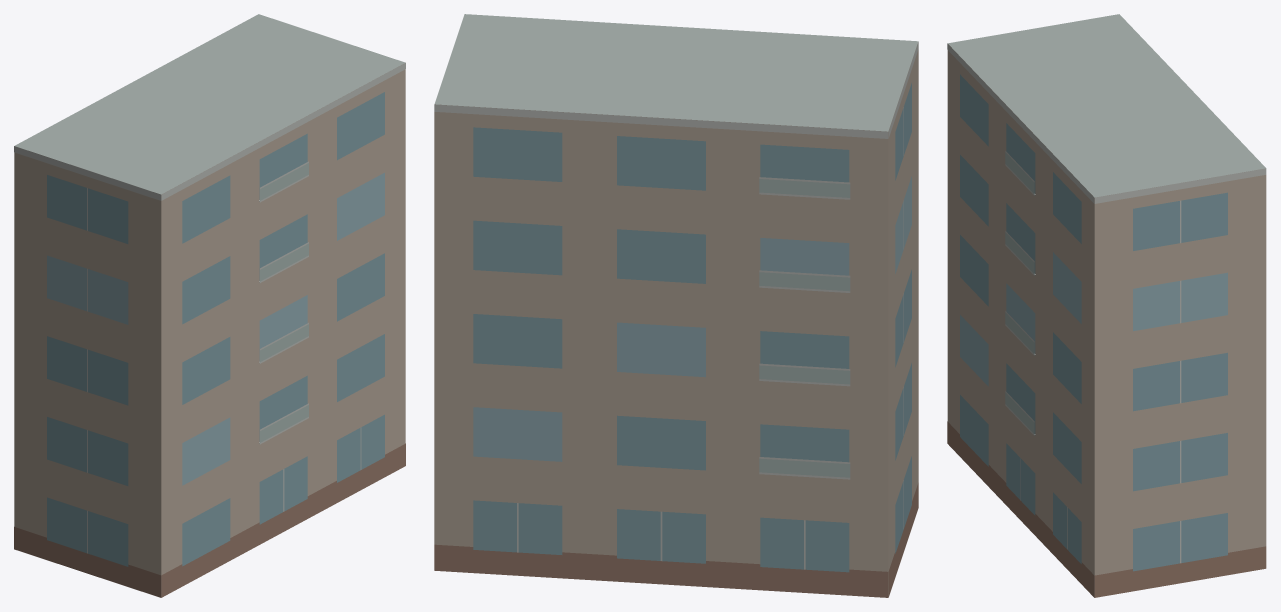
Rendered from residential-4b7114b2-32aa-4e94-8784-408849b689bf.glb.
3 views of the same model, side by side, from view 1: azimuth 30°, elevation 25°; view 2: azimuth 150°, elevation 25°; view 3: azimuth 270°, elevation 25° (orthographic). The views are drawn at different scales.
Parts seen in each view (by area): view 1: residential-4b7114b2-32aa-4e94-8784-408849b689bf.tmp; view 2: residential-4b7114b2-32aa-4e94-8784-408849b689bf.tmp; view 3: residential-4b7114b2-32aa-4e94-8784-408849b689bf.tmp.
Boxes of the visible parts, <box> form: residential-4b7114b2-32aa-4e94-8784-408849b689bf.tmp: <box>14,14,405,597</box>; residential-4b7114b2-32aa-4e94-8784-408849b689bf.tmp: <box>434,14,918,597</box>; residential-4b7114b2-32aa-4e94-8784-408849b689bf.tmp: <box>947,14,1266,597</box>.
Bounding box in the file's own units: 15.01 × 15.25 × 11.02.
